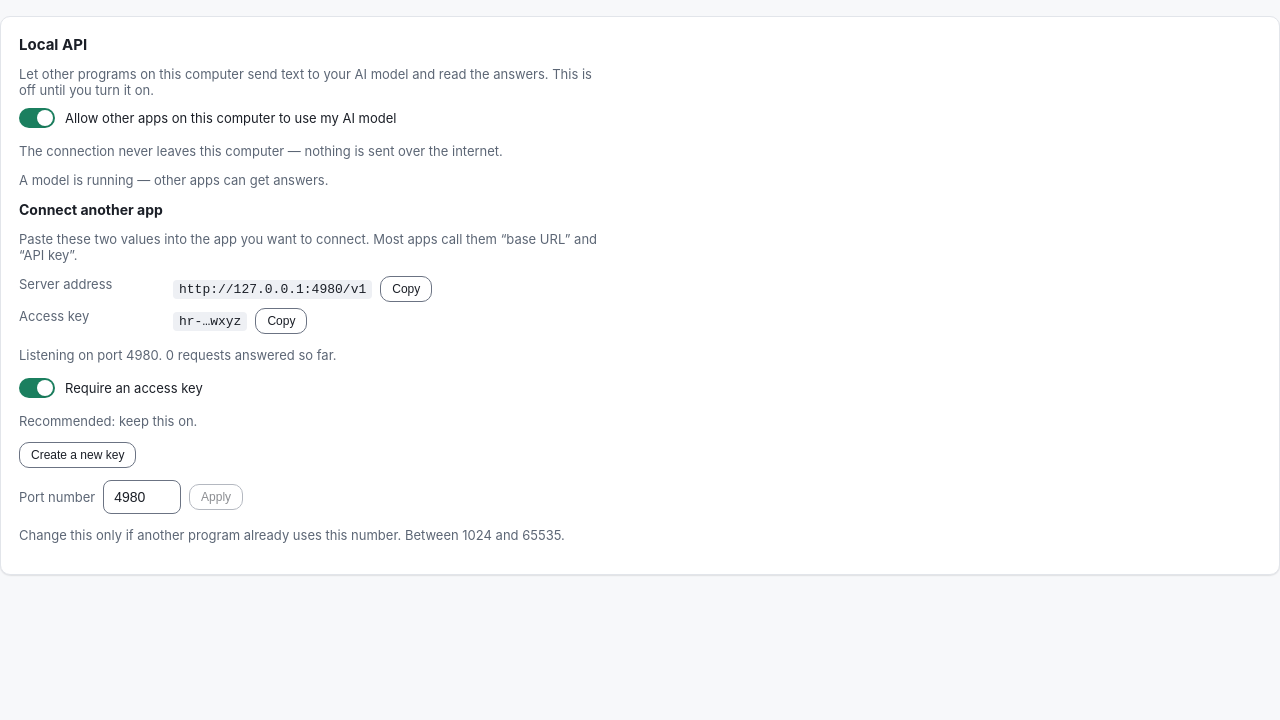
Scenario: LocalApiCard — the connect block › copies the key MAIN-side and warns that the clipboard may be synced
What coordinates should you click on to do the following:
click the button with aria-label "Copy the access key"
I would click on:
 (281, 321)
Its box is [255,308,307,334].
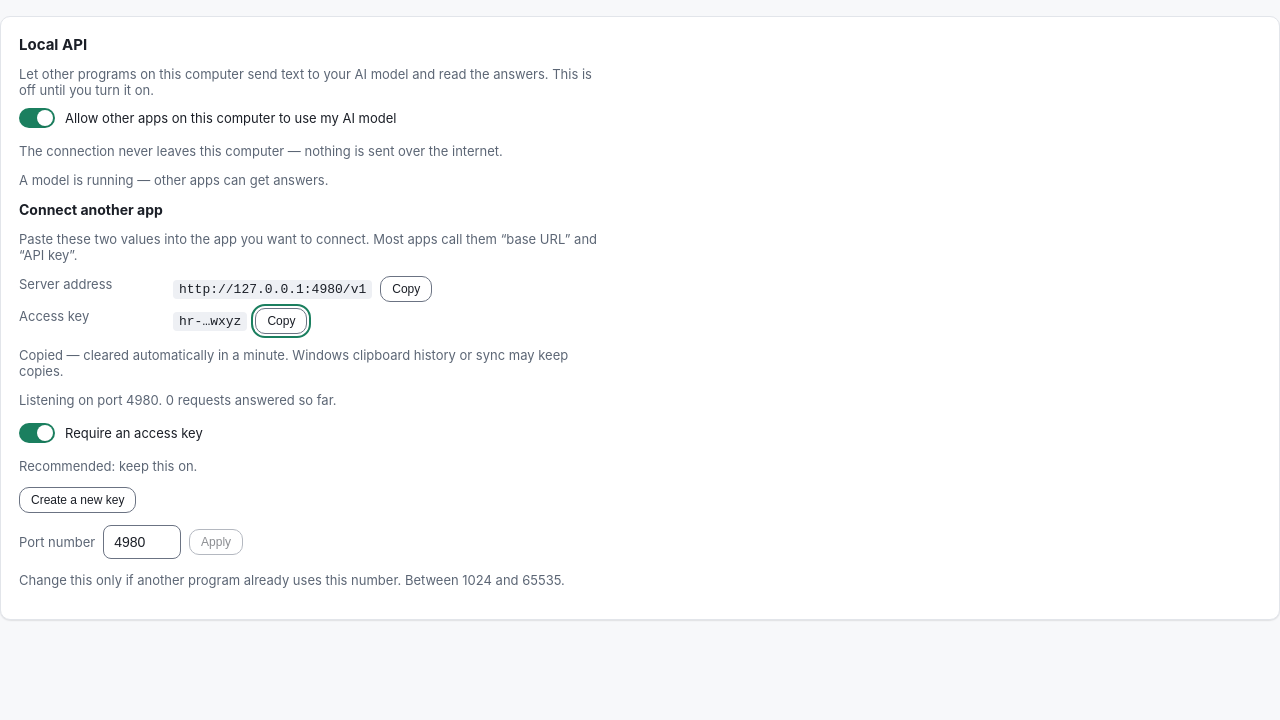
Now the text "cleared automatically in a minute" is shown, box [19,347,568,379]
